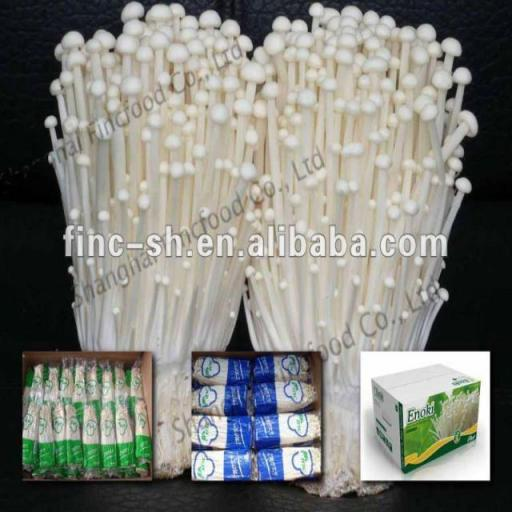Enoki Mushroom: (250, 6, 476, 347), (47, 2, 246, 350)
